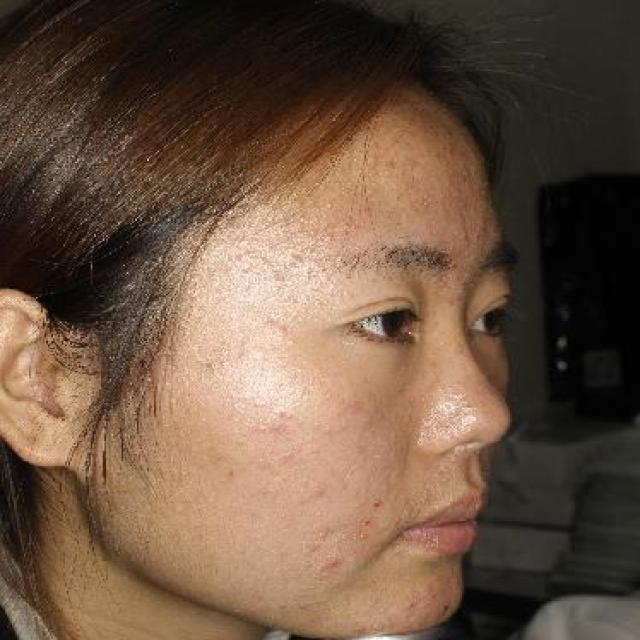dark spot: (369, 494, 388, 512), (359, 512, 373, 528)
whiteheads: (433, 275, 450, 294), (322, 230, 341, 244), (272, 282, 289, 296), (383, 158, 397, 174), (279, 323, 294, 337), (324, 192, 336, 208), (282, 411, 298, 422), (342, 286, 354, 300), (256, 423, 268, 437), (277, 405, 286, 417)
